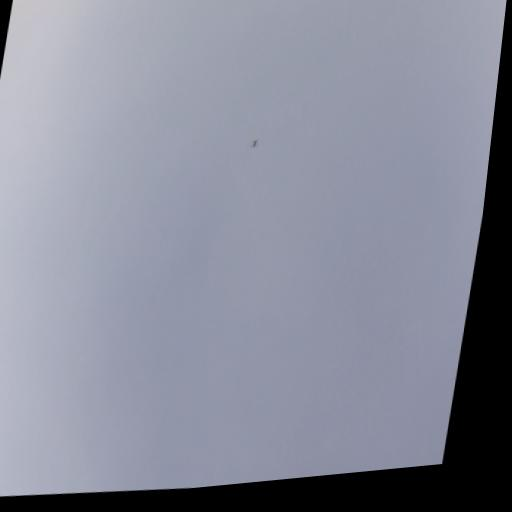drones: (249, 136, 261, 151)
